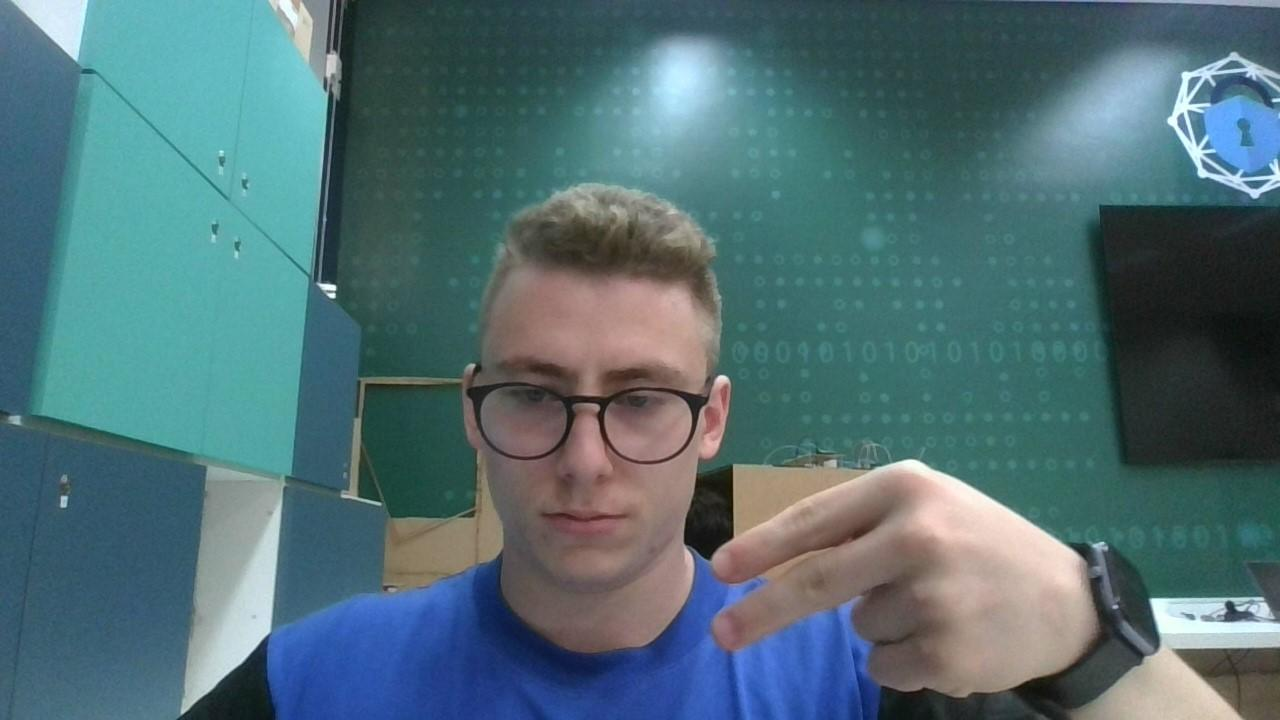N: (696, 438, 1072, 700)
